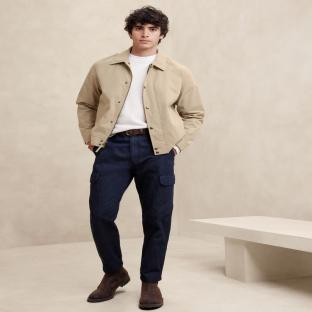Human: (76, 6, 204, 307)
